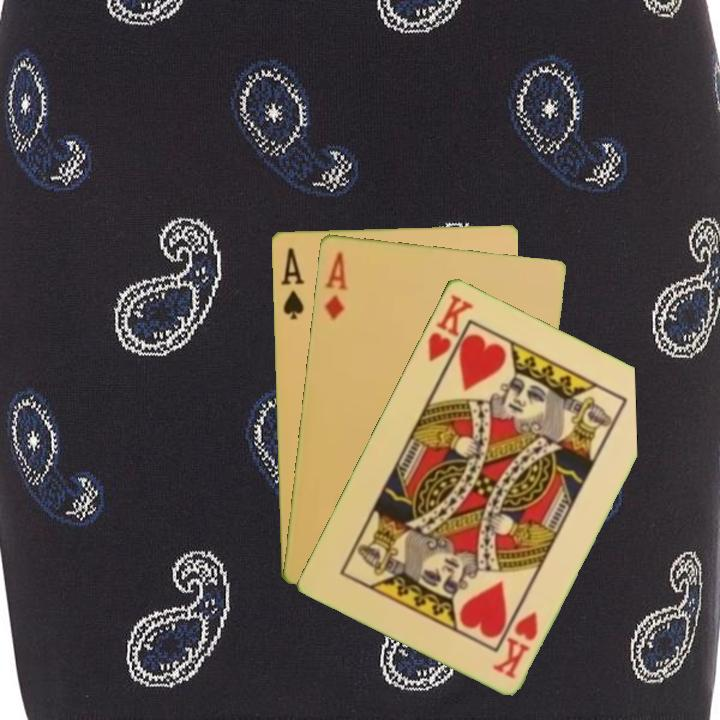Ad: (320, 248, 351, 323)
As: (277, 243, 307, 322)
Kh: (423, 290, 476, 375), (488, 607, 541, 681)
